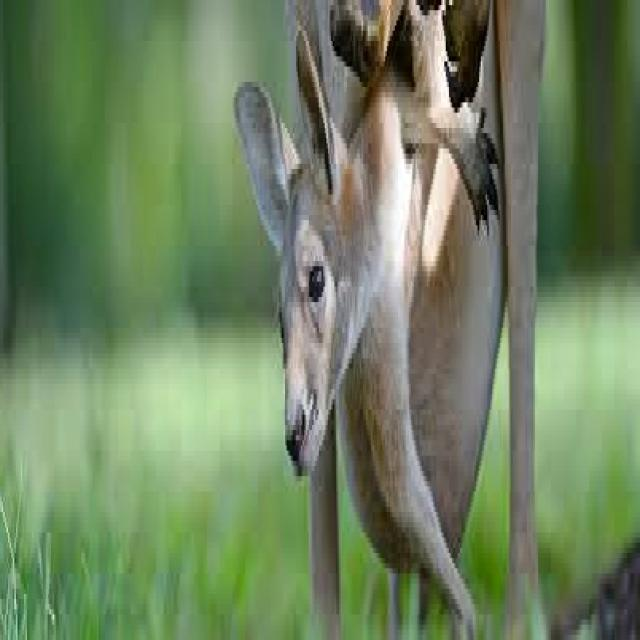kangaroo: (236, 31, 497, 614)
